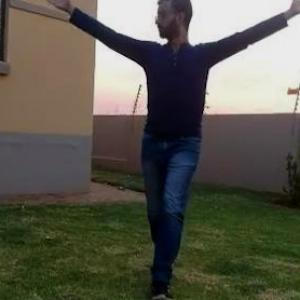takeoff: (50, 0, 299, 299)
